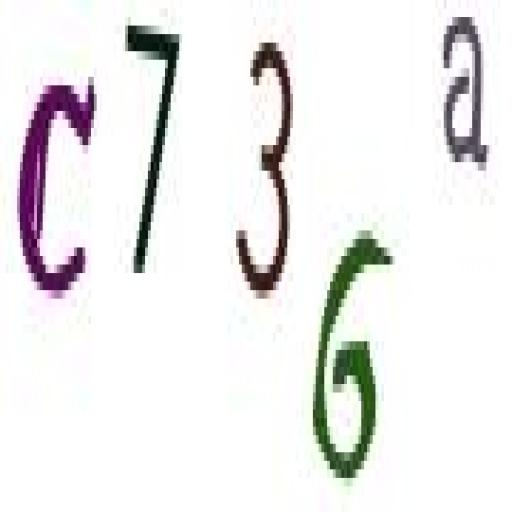3: (228, 20, 296, 328)
6: (300, 207, 398, 512)
7: (118, 6, 185, 305)
a: (438, 10, 498, 193)
c: (10, 40, 103, 315)
